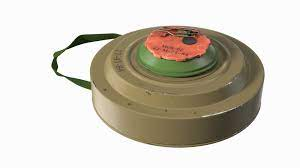car: (37, 10, 276, 158)
